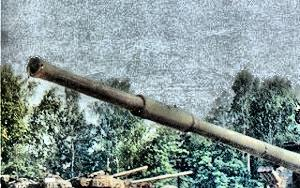tanks: (30, 60, 300, 188), (72, 167, 180, 188), (296, 110, 300, 125)
